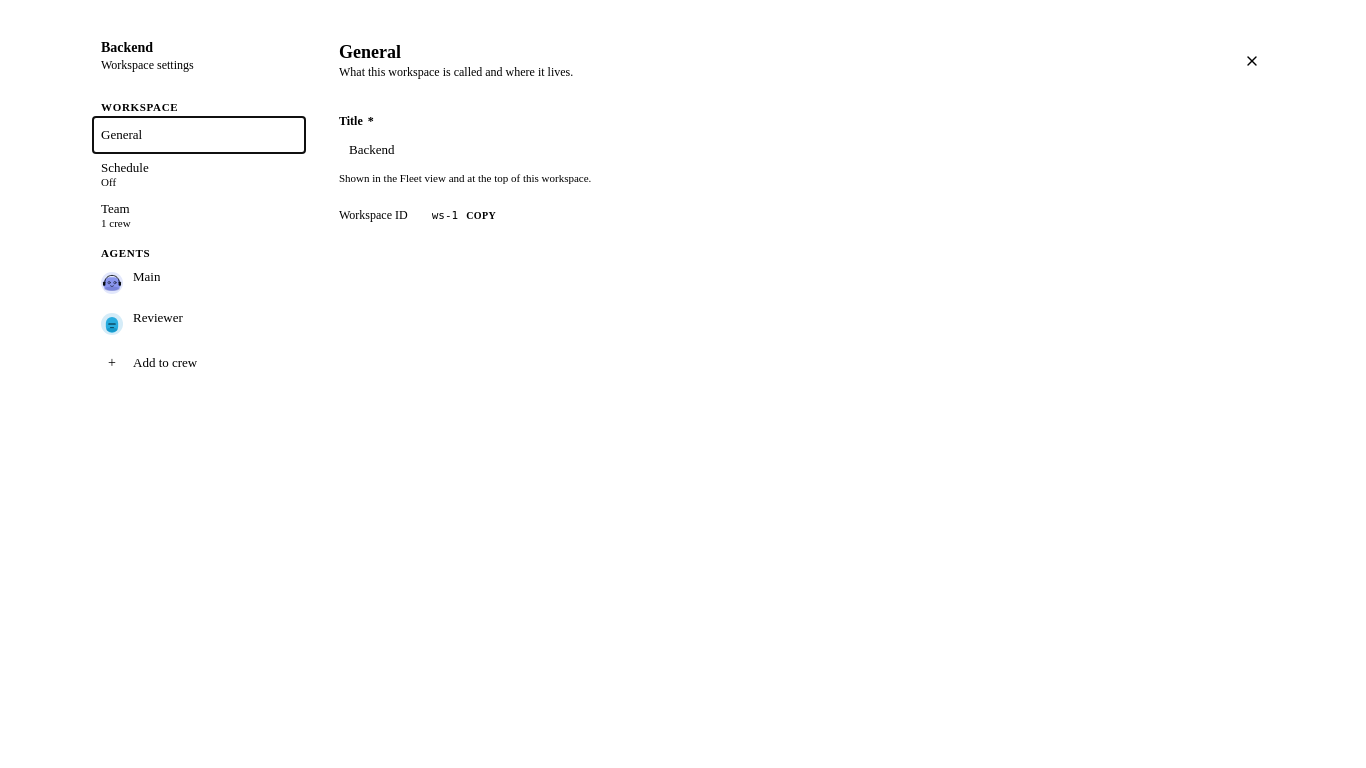
Test: WorkspaceSettingsModal navigation and per-page save › shows the save bar only while the page has changes, and Discard drops the draft
The image size is (1366, 768).
Expected: the element "Unsaved changes" is not shown
Type " API" into the field labelled "Title *".
click(619, 150); type(" API")  # box [339,135,899,165]
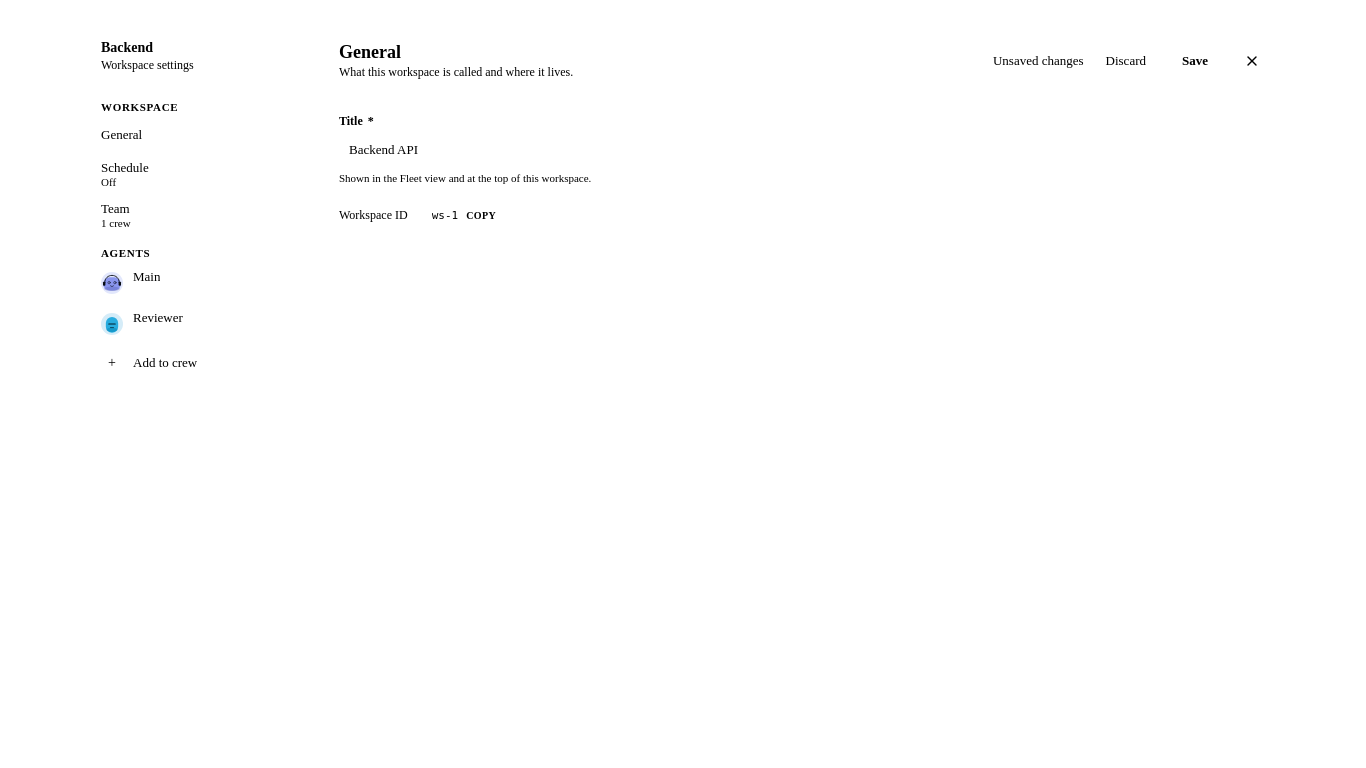
Expected: the element "Unsaved changes" is shown, [965,44,1225,78]
Click the button "Discard".
click(1126, 61)  # box [1092,47,1160,75]
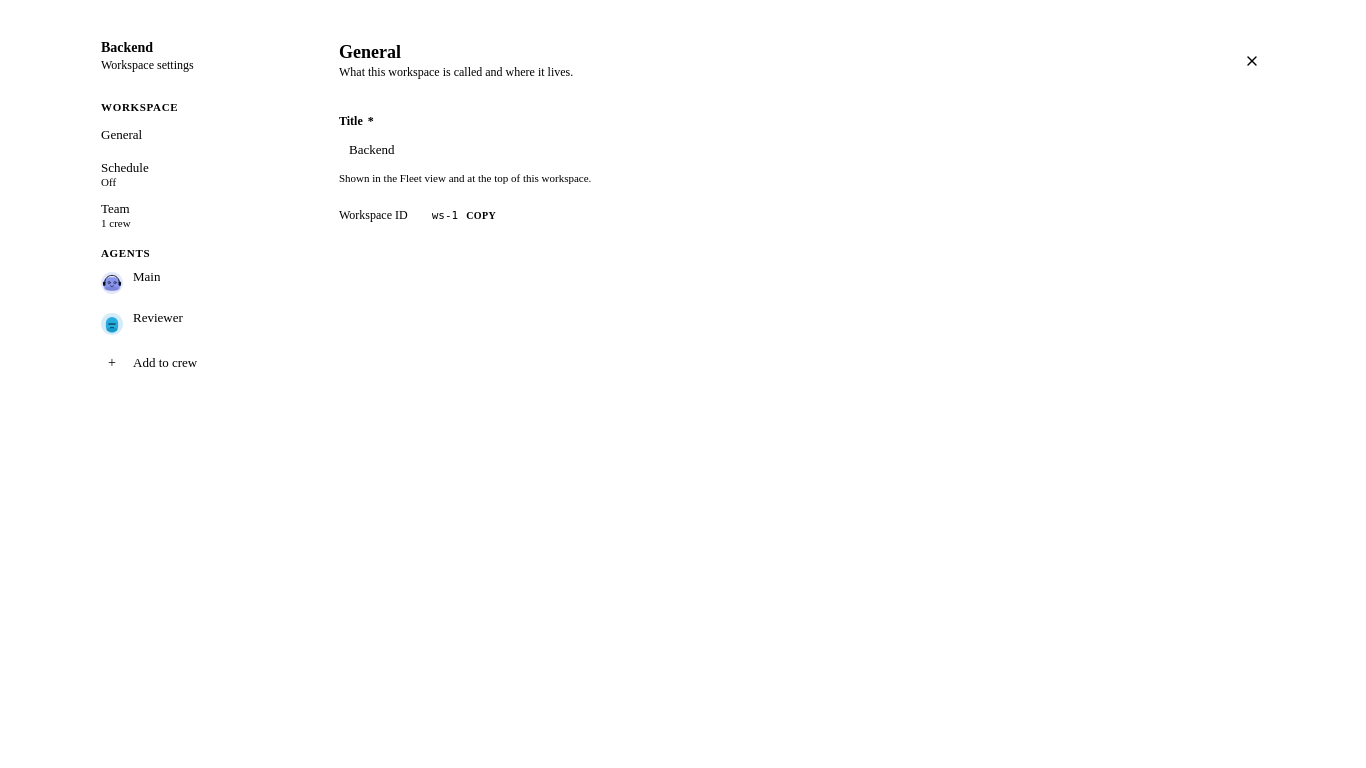
Expected: the text "Unsaved changes" is gone
Expected: the field labelled "Title *" holds "Backend", [339,135,899,165]
